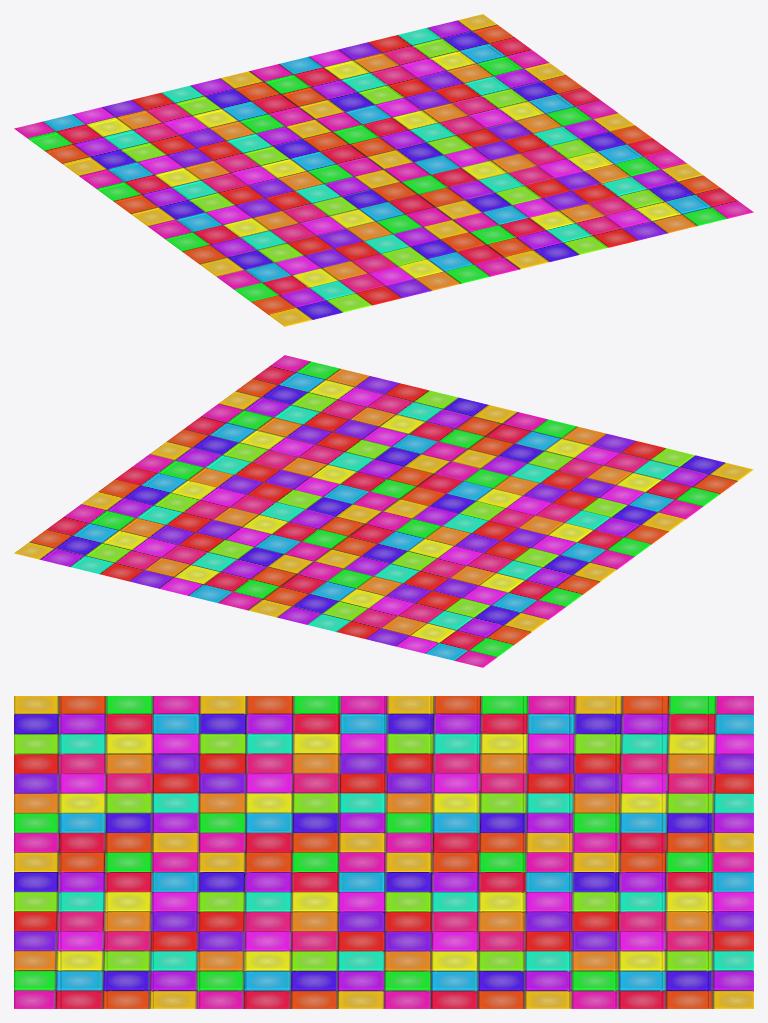
Rendered from floor .fbx.
3 renders of one model, top to bottom at view 1: azimuth 30°, elevation 25°; view 2: azimuth 150°, elevation 25°; view 3: azimuth 270°, elevation 25°, orthographic. The views are drawn at different scales.
Visible parts, largest first — view 1: Plane; view 2: Plane; view 3: Plane.
Part boxes in pixels (x1=…): Plane: x1=14, y1=14, x2=753, y2=326; Plane: x1=14, y1=355, x2=753, y2=667; Plane: x1=14, y1=696, x2=753, y2=1008.
Bounding box in the file's own units: 2000 × 1.93 × 2000.
